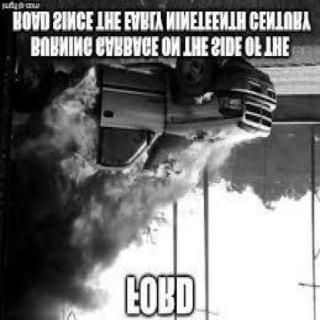Fire: (17, 56, 225, 267)
Smoke: (0, 147, 147, 320)
